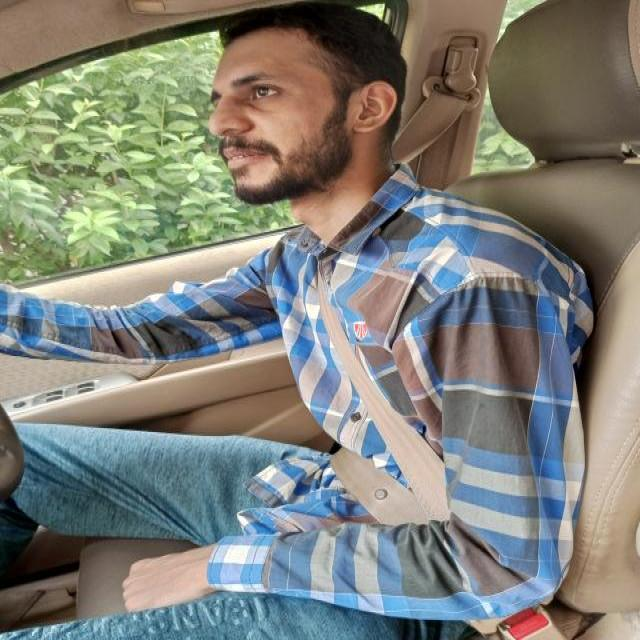seatbelt: (277, 2, 588, 640)
